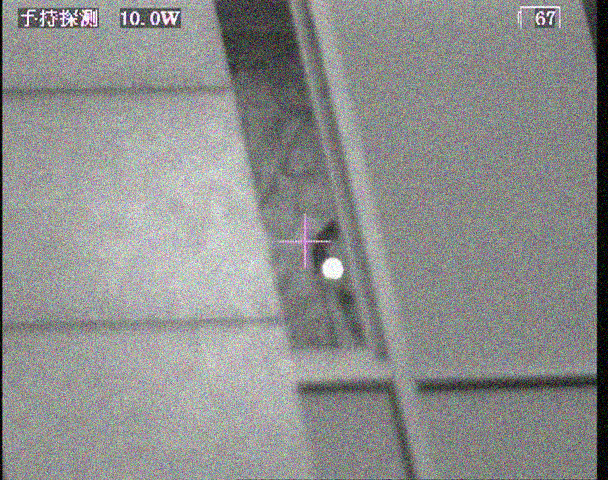my: (320, 255, 344, 280)
